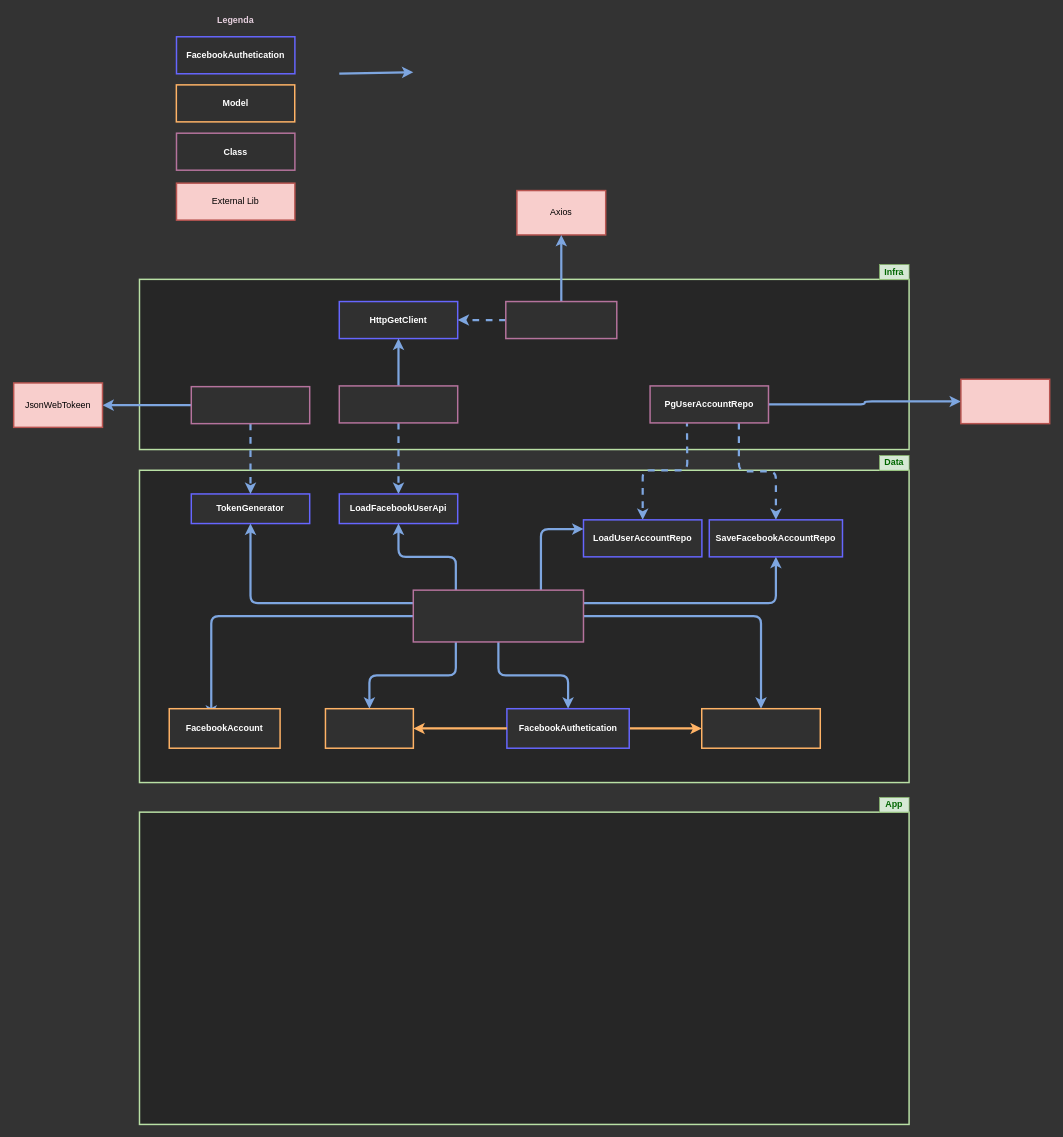
Some shapes in this 1063 by 1137 pixel diagram are drawn without their labels. The centre of each missing label's shape, as x and y in pixels:
"AccessToken" belongs at point (369, 728).
"AuthenticationError" belongs at point (761, 728).
"AxiosHttpClient" belongs at point (561, 319).
"FacebookApi" belongs at point (398, 404).
"FacebookAuthenticationService" belongs at point (498, 615).
"JwtTokenGenerator" belongs at point (250, 405).
"TypeeOrm" belongs at point (1005, 401).
